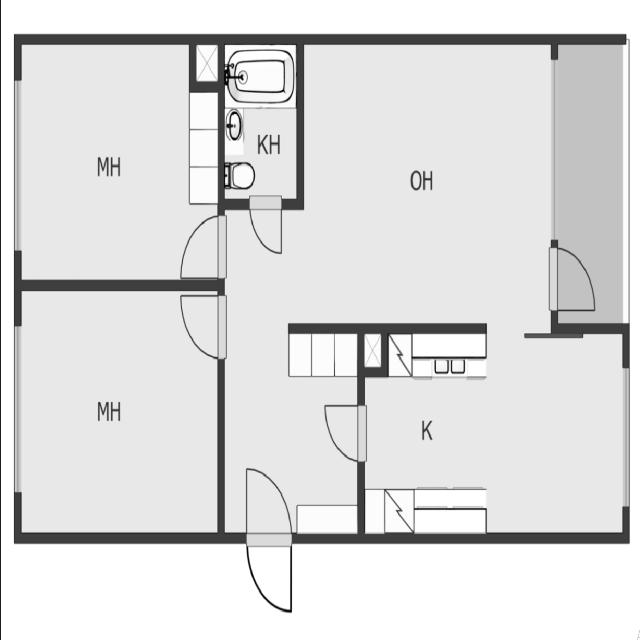door: (297, 39, 557, 330), (16, 41, 220, 283), (221, 38, 299, 207), (239, 460, 299, 618), (318, 396, 370, 472), (177, 287, 229, 361)
window: (546, 53, 562, 252), (11, 71, 25, 258), (12, 320, 24, 500), (618, 363, 632, 514)
zone: (357, 327, 627, 539), (16, 284, 221, 541), (542, 240, 601, 314), (177, 287, 230, 360), (174, 208, 226, 282), (248, 197, 286, 258)
